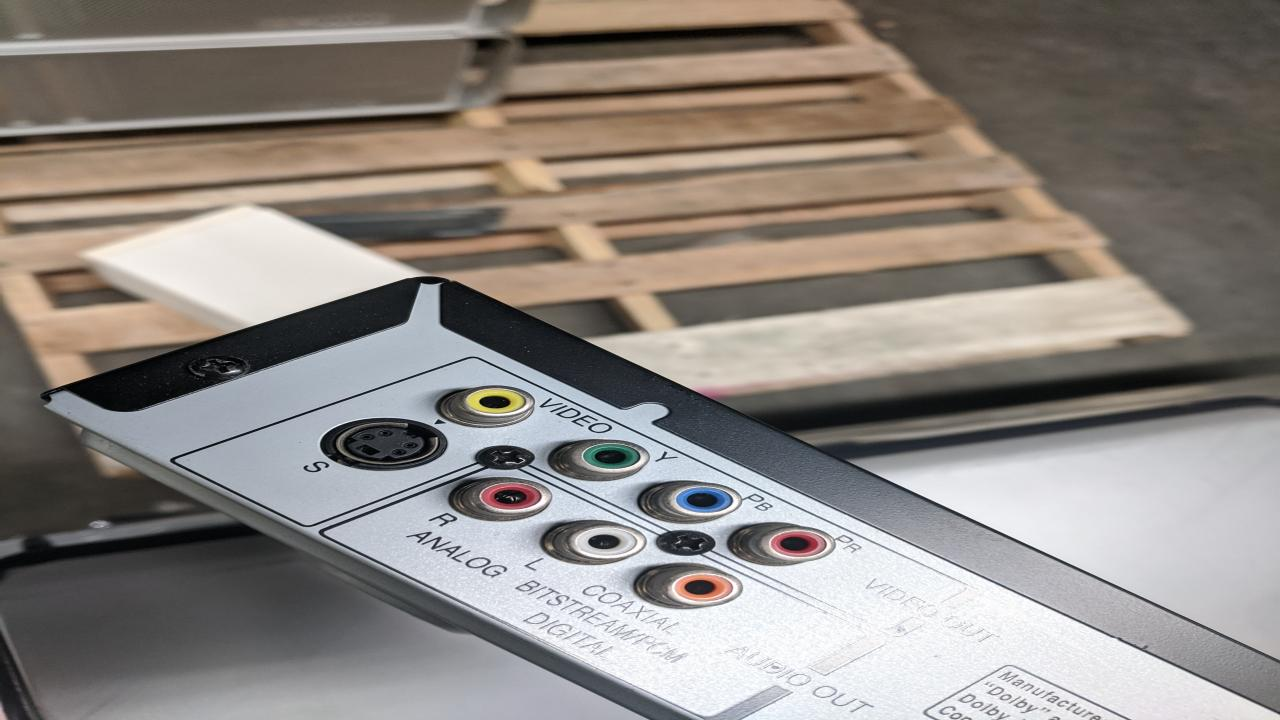CRS: (652, 529, 717, 557), (186, 355, 252, 380), (479, 444, 536, 470)
